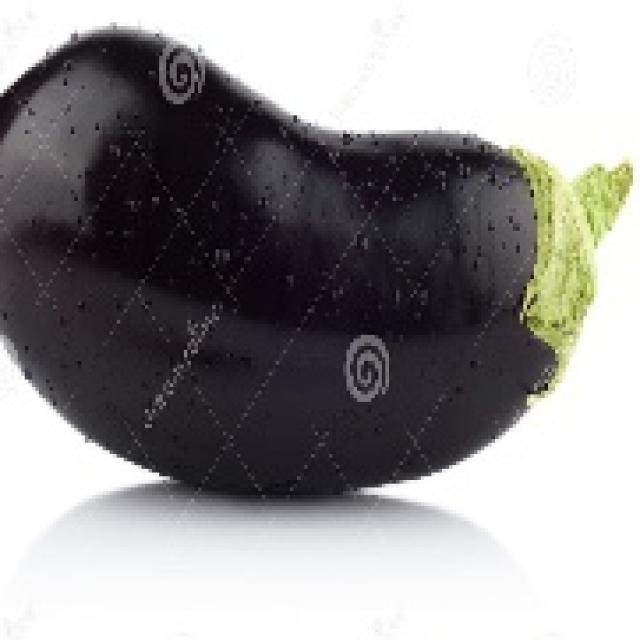eggplant: (0, 18, 583, 494)
